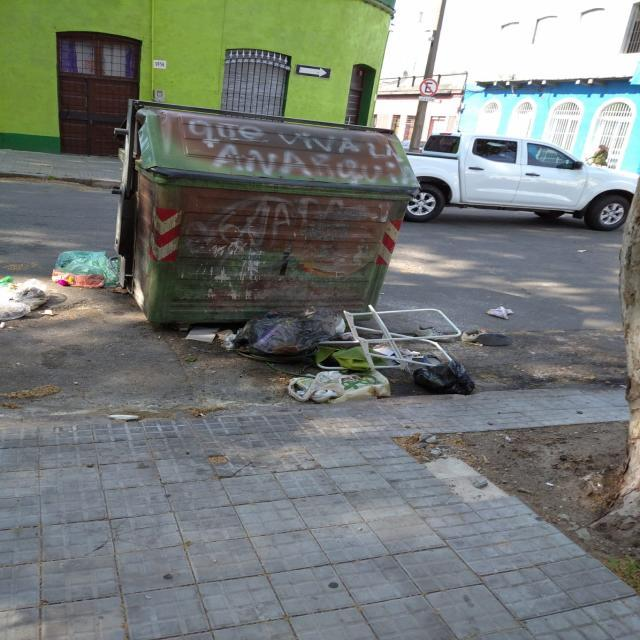garbage: (178, 297, 504, 409), (7, 226, 184, 316)
